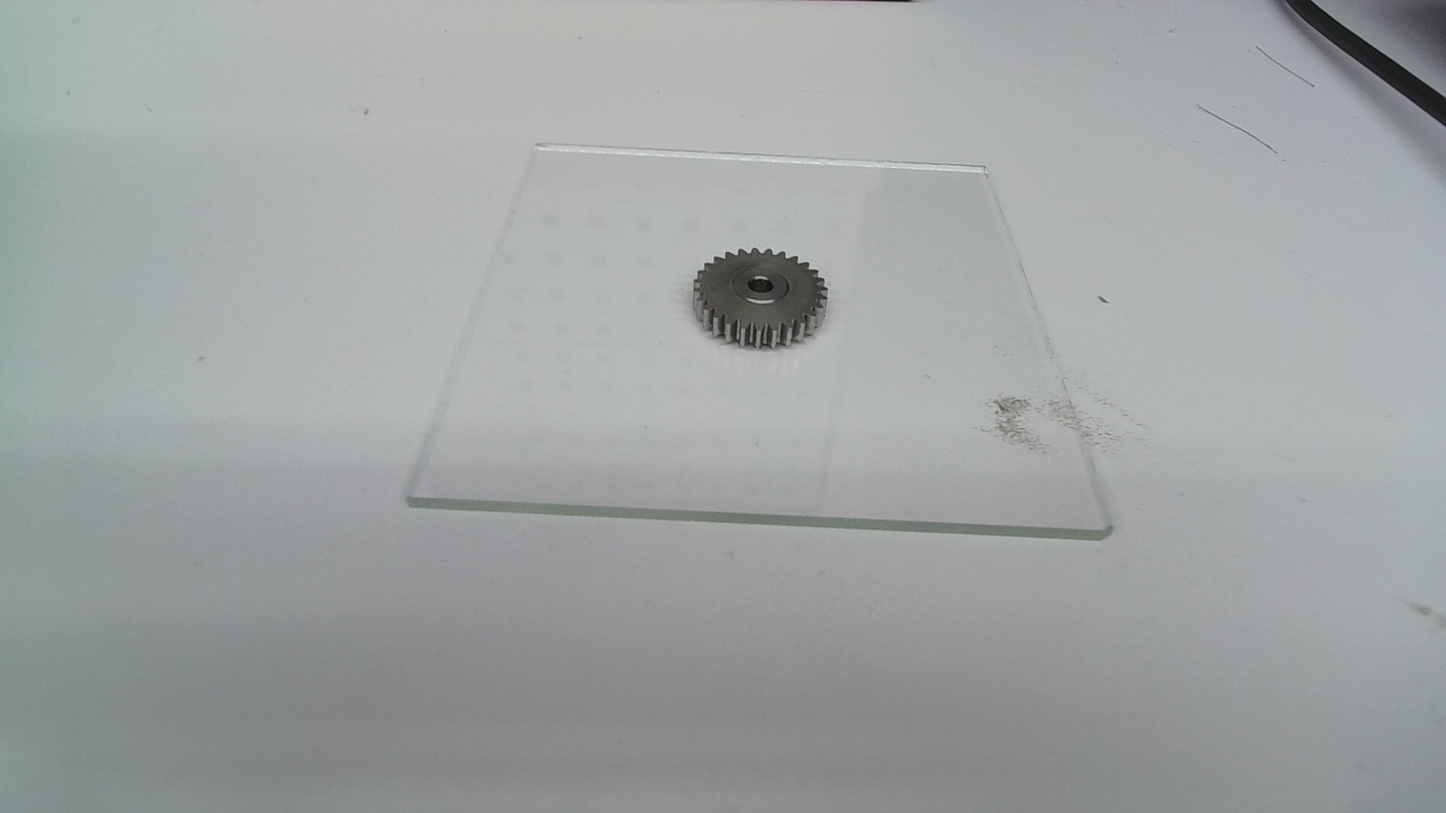gear: (689, 247, 831, 355)
